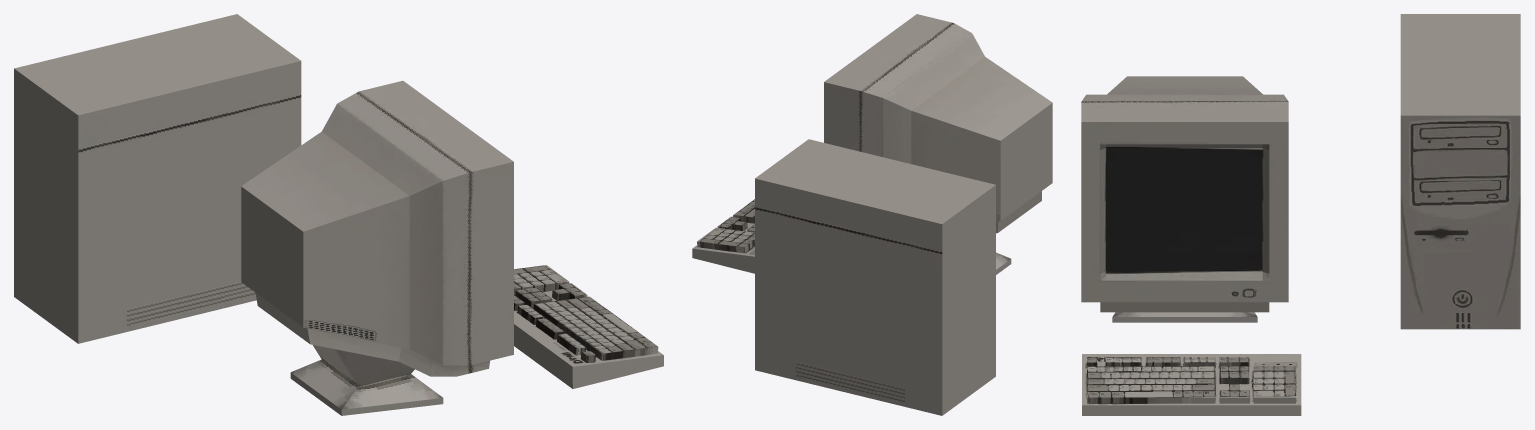
Rendered from computa.glb.
The picture shows the model from 3 angles, left to right: view 1: azimuth 30°, elevation 25°; view 2: azimuth 150°, elevation 25°; view 3: azimuth 270°, elevation 25°; orthographic projection. The views are drawn at different scales.
Parts seen in each view (by area): view 1: Cube; view 2: Cube; view 3: Cube.
Part boxes in pixels (x1,y1,x2,y2): Cube: [14, 14, 663, 415]; Cube: [692, 14, 1052, 415]; Cube: [1081, 14, 1520, 415].
Size of the model in its own units: 3.94 by 2.2 by 3.86.
Materials: 1 (1 with a texture image).
